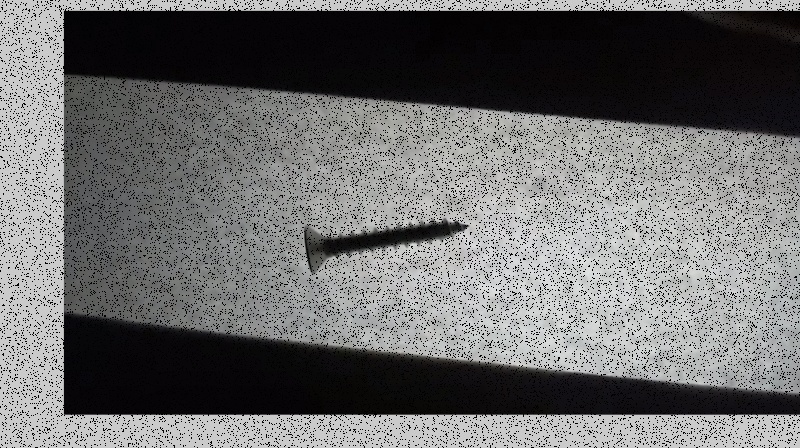S001: (299, 214, 473, 276)
